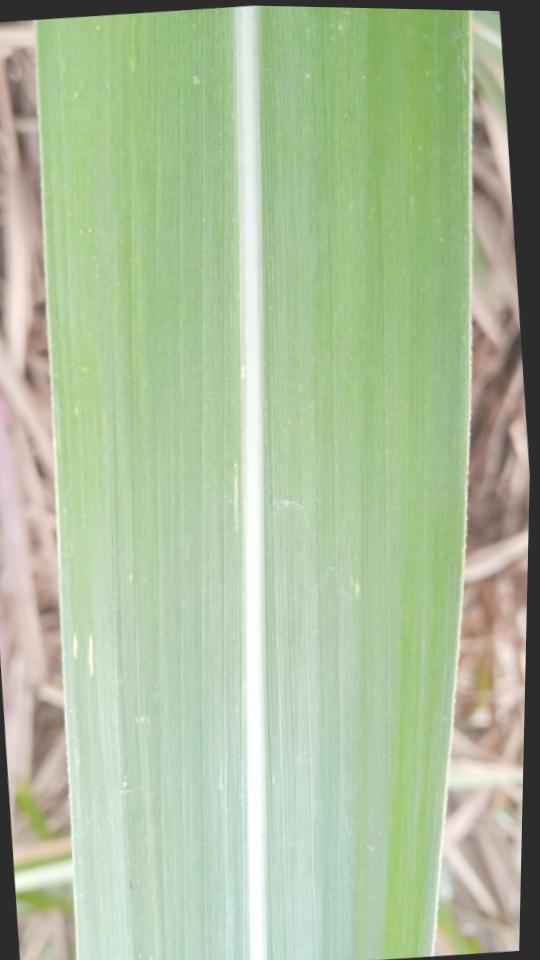Healthy: (36, 6, 470, 960)
